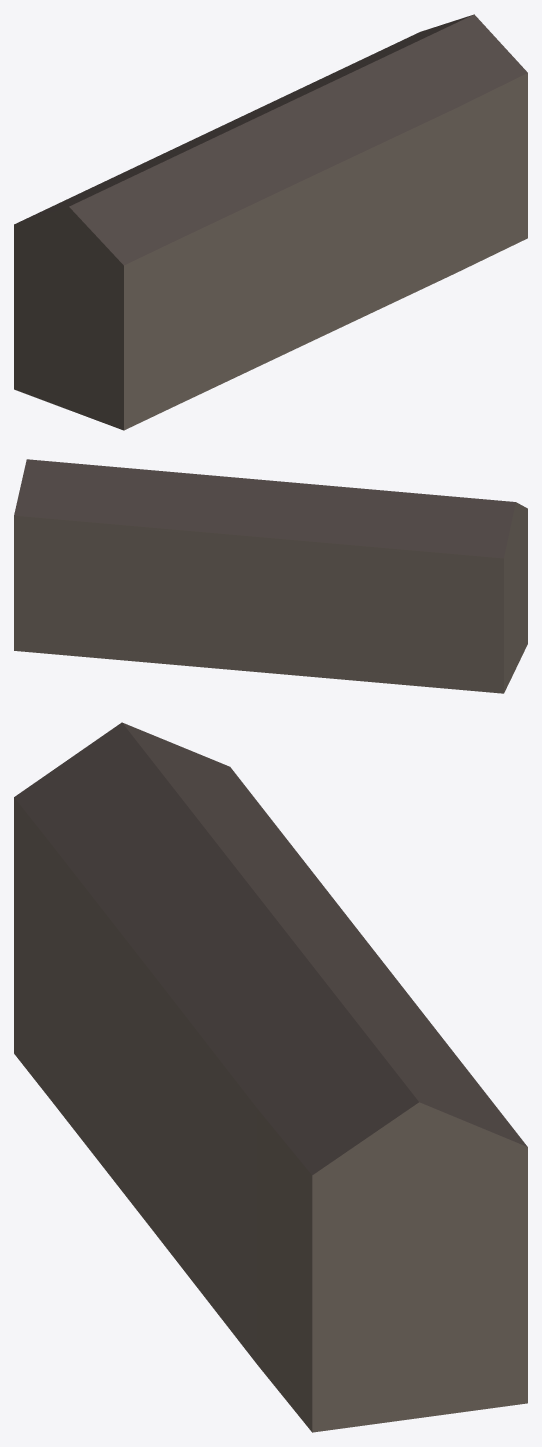
The picture shows the model from 3 angles, top to bottom: view 1: azimuth 30°, elevation 25°; view 2: azimuth 150°, elevation 25°; view 3: azimuth 270°, elevation 25°; orthographic projection. The views are drawn at different scales.
Parts seen in each view (by area): view 1: HP-w1198645044; view 2: HP-w1198645044; view 3: HP-w1198645044.
Part boxes in pixels (left/top/right/bottom): HP-w1198645044: left=14, top=14, right=527, bottom=430; HP-w1198645044: left=14, top=459, right=527, bottom=693; HP-w1198645044: left=14, top=722, right=527, bottom=1432.
Bounding box in the file's own units: 20.57 × 7.4 × 10.91.
